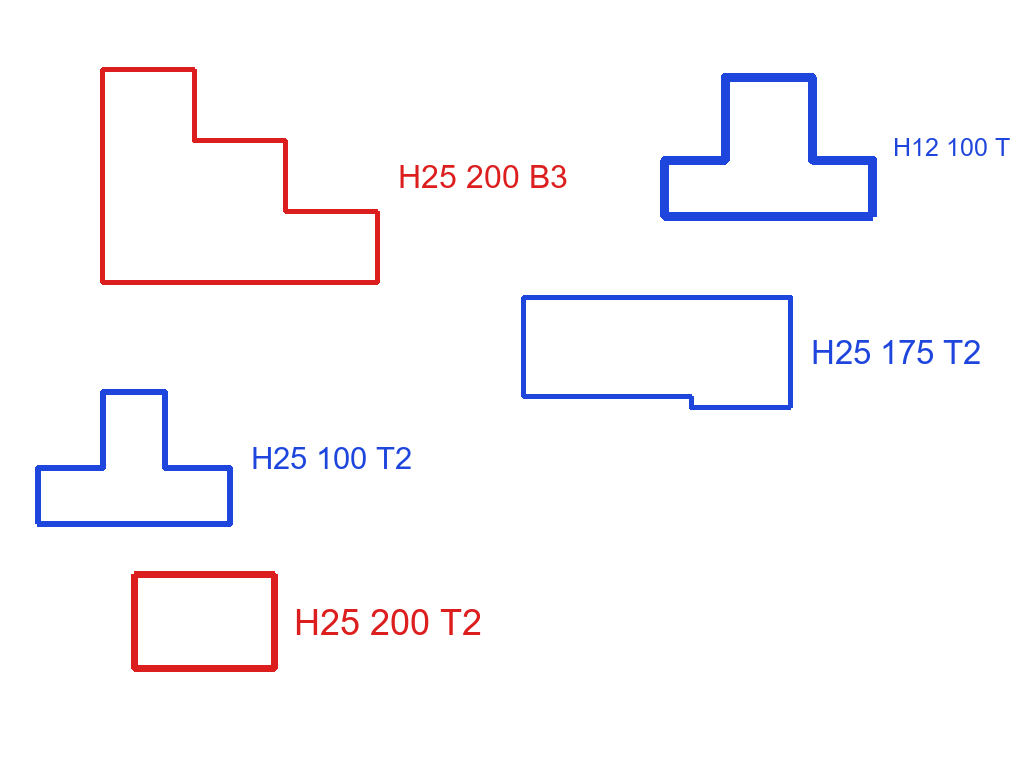shape: (98, 65, 382, 287), (658, 71, 879, 223), (519, 293, 795, 412), (33, 388, 236, 529), (129, 569, 280, 674)
text: (292, 607, 484, 637), (809, 338, 983, 366), (396, 163, 570, 190), (249, 445, 414, 471), (891, 136, 1012, 158)
